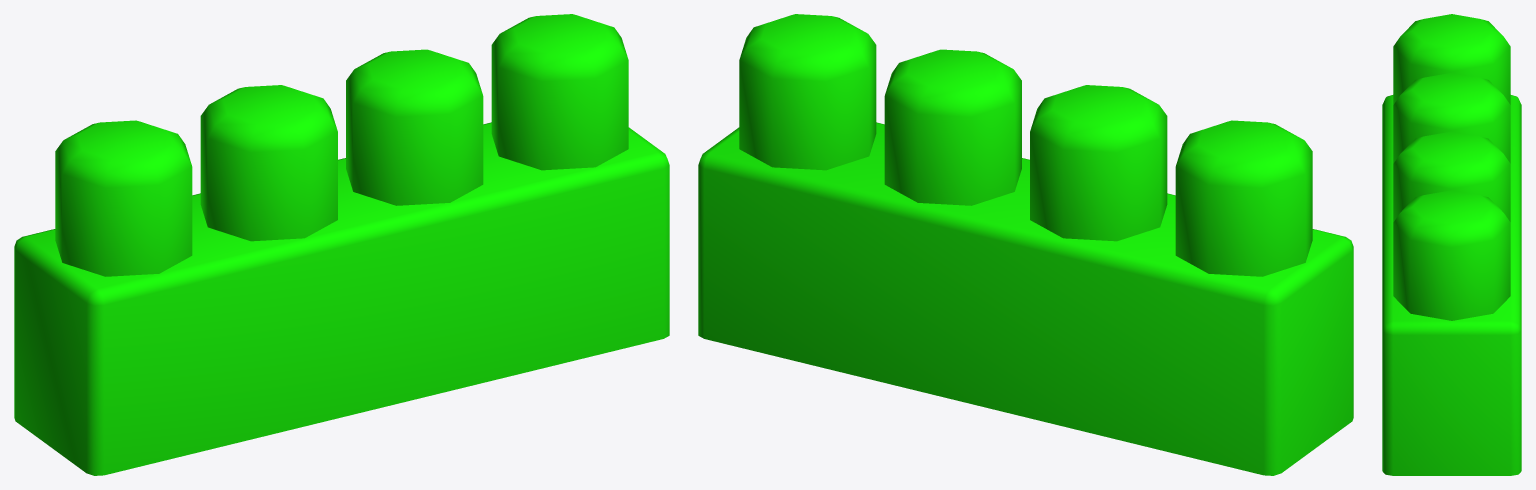
The model's file is plastic_block_4x1_01.FBX.
The picture shows the model from 3 angles, left to right: view 1: azimuth 30°, elevation 25°; view 2: azimuth 150°, elevation 25°; view 3: azimuth 270°, elevation 25°; orthographic projection. The views are drawn at different scales.
Visible parts, largest first — view 1: plastic_block_4x1_01, plastic_block_4x1_01_knot; view 2: plastic_block_4x1_01, plastic_block_4x1_01_knot; view 3: plastic_block_4x1_01_knot, plastic_block_4x1_01.
Part boxes in pixels (bbox=[...]): plastic_block_4x1_01: bbox=[14, 122, 669, 475]; plastic_block_4x1_01_knot: bbox=[55, 14, 628, 276]; plastic_block_4x1_01: bbox=[698, 122, 1353, 475]; plastic_block_4x1_01_knot: bbox=[739, 14, 1312, 276]; plastic_block_4x1_01_knot: bbox=[1393, 14, 1510, 320]; plastic_block_4x1_01: bbox=[1382, 95, 1521, 475].
Size of the model in its own units: 600 by 285 by 150.
